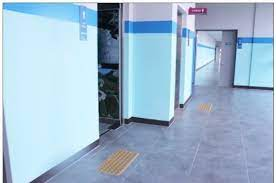guide_blocks: (99, 151, 138, 173), (196, 103, 211, 112)
